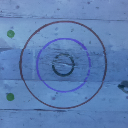Axe Tip: (121, 89, 128, 94)
